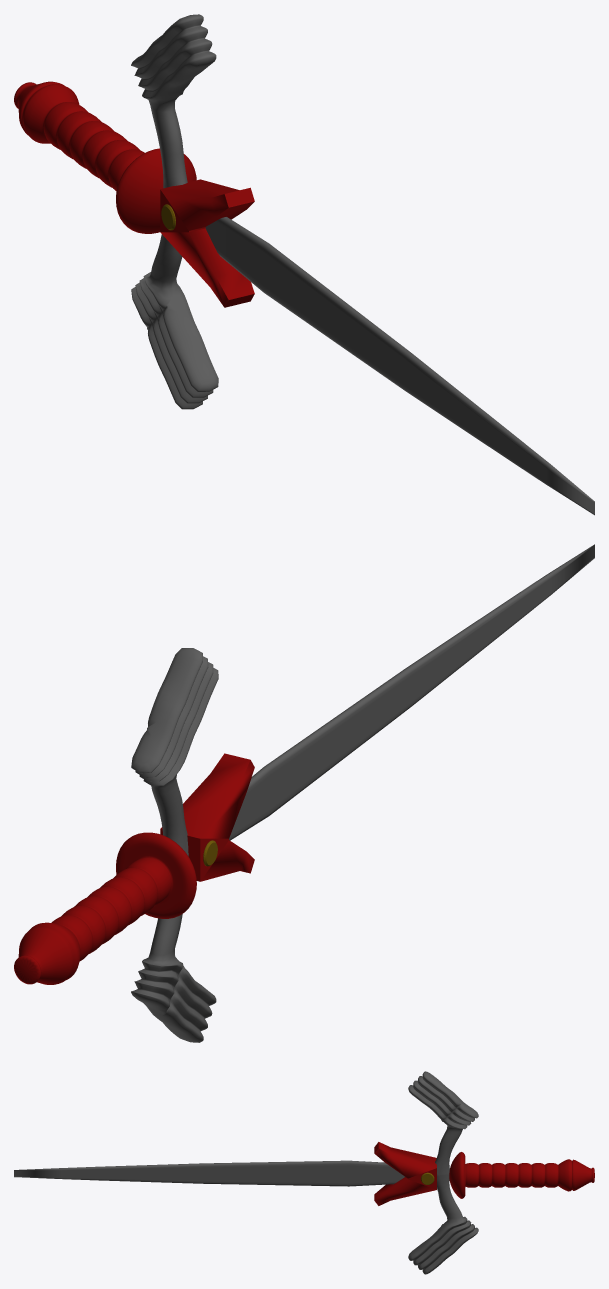
The model's file is sWORD3.fbx.
3 renders of one model, top to bottom at view 1: azimuth 30°, elevation 25°; view 2: azimuth 150°, elevation 25°; view 3: azimuth 270°, elevation 25°, orthographic. The views are drawn at different scales.
Parts seen in each view (by area): view 1: polySurface3; view 2: polySurface3; view 3: polySurface3.
Part boxes in pixels (x1=…): polySurface3: x1=14, y1=14, x2=594, y2=515; polySurface3: x1=14, y1=544, x2=594, y2=1042; polySurface3: x1=14, y1=1071, x2=594, y2=1274.
Size of the model in its own units: 0.171 by 0.798 by 2.1.
